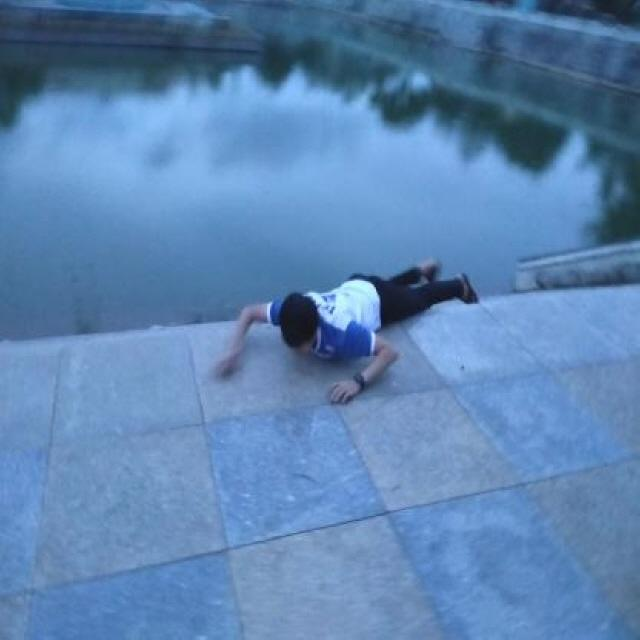Fall: (215, 262, 479, 404)
